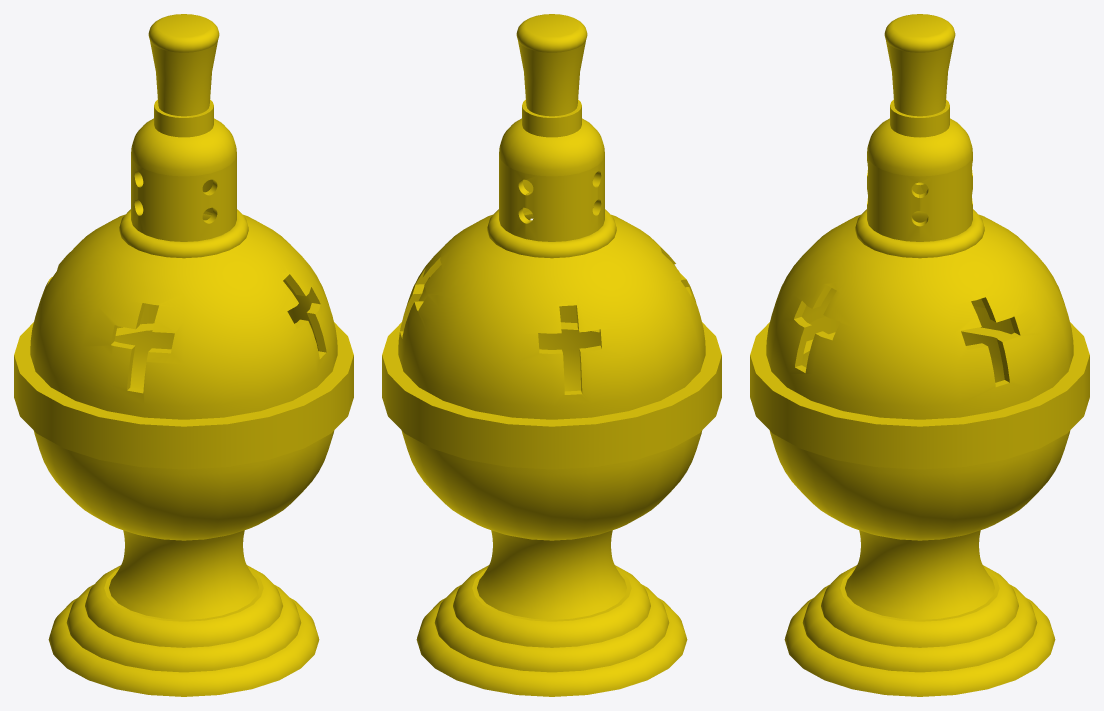
The model's file is INCENSARIO-PEQUEÑO.glb.
3 views of the same model, side by side, from view 1: azimuth 30°, elevation 25°; view 2: azimuth 150°, elevation 25°; view 3: azimuth 270°, elevation 25° (orthographic).
Visible parts, largest first — view 1: SketchUp; view 2: SketchUp; view 3: SketchUp.
Boxes of the visible parts, <box> form: SketchUp: <box>14,14,353,696</box>; SketchUp: <box>382,14,721,696</box>; SketchUp: <box>750,14,1089,696</box>.
Size of the model in its own units: 0.1261 by 0.2514 by 0.1261.
